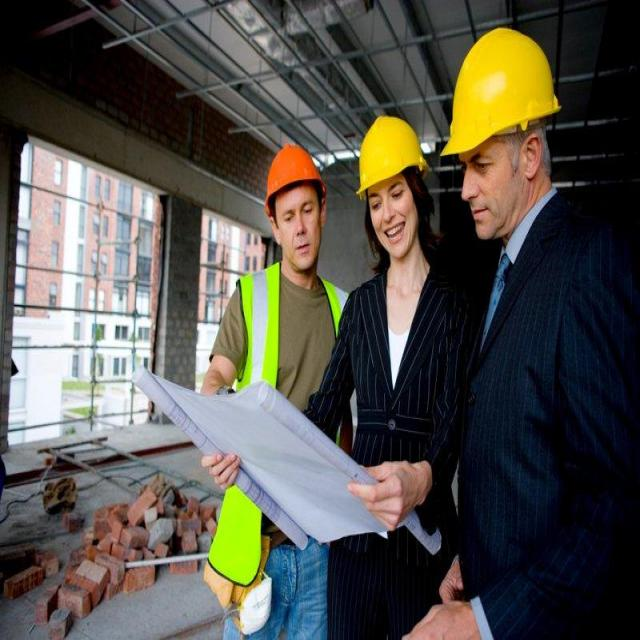Reflective-Jacket: (209, 257, 351, 590)
Safety-Helmet: (440, 24, 562, 160), (354, 110, 429, 200), (259, 136, 327, 213)
